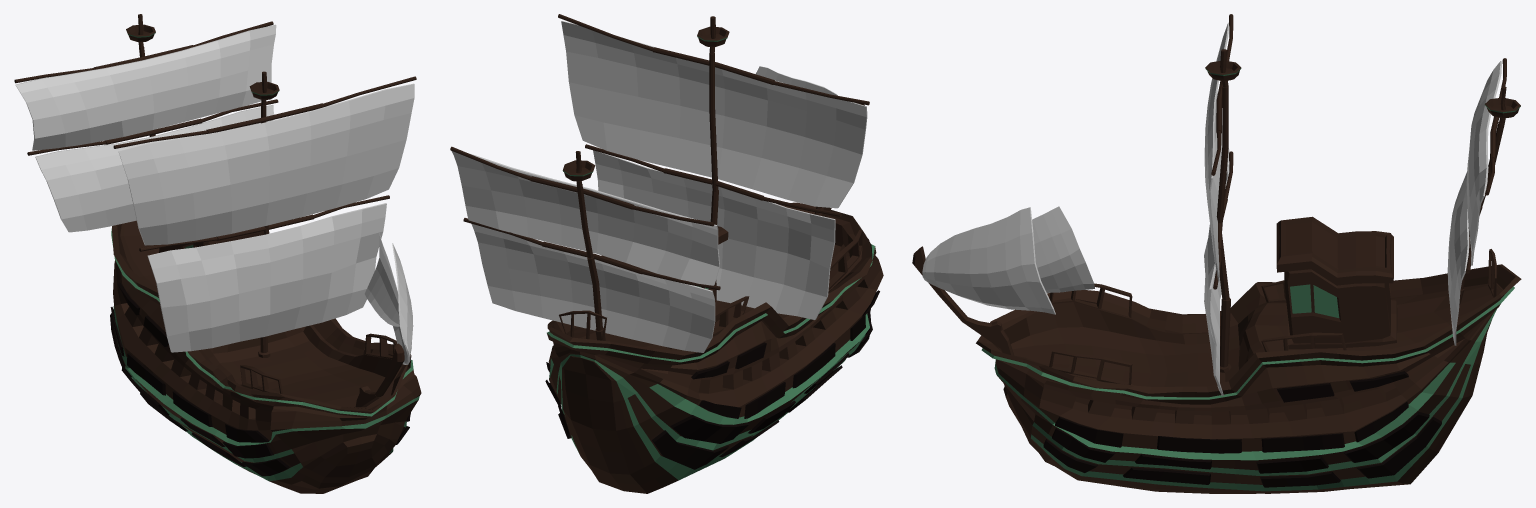
File: 11-25_ShipModel_v2.fbx
3 renders of one model, left to right at view 1: azimuth 30°, elevation 25°; view 2: azimuth 150°, elevation 25°; view 3: azimuth 270°, elevation 25°, orthographic. The views are drawn at different scales.
Visible parts, largest first — view 1: Sails, Hull, Mast Horiz Mid_1, R_front_L, Armor (15), Armor (18), Front Mast, Armor (20), Mast high, Armor (23), Armor (16), Mast Horiz Mid_2 (2) (+3 smaller); view 2: Sails, Hull, Armor (25), Armor (24), Mast mid, R_front_L, Mast Horiz Mid_1, Armor (20), Mast high, Mast high (2), Armor (18), Mast Horiz Rare (+5 smaller); view 3: Hull, Sails, Armor (11), Armor (10), Armor (6), Armor (4), Mid_Mast base, Armor (8), Mast mid, R_front_R, Armor (3), Armor (9) (+8 smaller).
Boxes of the visible parts, left/top/right/bottom form: Sails: left=15, top=24, right=414, bottom=364; Hull: left=111, top=220, right=421, bottom=493; Mast Horiz Mid_1: left=206, top=103, right=323, bottom=133; R_front_L: left=240, top=365, right=282, bottom=394; Armor (15): left=222, top=441, right=273, bottom=458; Armor (18): left=127, top=353, right=165, bottom=395; Front Mast: left=375, top=343, right=404, bottom=396; Armor (20): left=172, top=391, right=212, bottom=426; Mast high: left=249, top=71, right=279, bottom=105; Armor (23): left=225, top=424, right=269, bottom=442; Armor (16): left=242, top=458, right=289, bottom=476; Mast Horiz Mid_2 (2): left=104, top=118, right=202, bottom=144; Sails: left=451, top=21, right=867, bottom=352; Hull: left=547, top=202, right=883, bottom=493; Armor (25): left=652, top=430, right=728, bottom=469; Armor (24): left=670, top=415, right=749, bottom=443; Mast mid: left=709, top=53, right=718, bottom=191; R_front_L: left=828, top=230, right=862, bottom=289; Mast Horiz Mid_1: left=652, top=47, right=774, bottom=84; Armor (20): left=792, top=343, right=835, bottom=388; Mast high: left=697, top=16, right=729, bottom=53; Mast high (2): left=562, top=151, right=595, bottom=186; Armor (18): left=744, top=382, right=785, bottom=418; Mast Horiz Rare: left=530, top=176, right=634, bottom=209; Hull: left=976, top=216, right=1521, bottom=493; Sails: left=922, top=22, right=1501, bottom=395; Armor (11): left=1356, top=417, right=1441, bottom=478; Armor (10): left=1343, top=411, right=1429, bottom=462; Armor (6): left=1157, top=436, right=1241, bottom=453; Armor (4): left=1261, top=433, right=1344, bottom=452; Mid_Mast base: left=1219, top=234, right=1231, bottom=372; Armor (8): left=1123, top=467, right=1210, bottom=484; Mast mid: left=1216, top=86, right=1228, bottom=230; R_front_R: left=1049, top=350, right=1132, bottom=384; Armor (3): left=1256, top=456, right=1328, bottom=473; Armor (9): left=1055, top=416, right=1123, bottom=447.
Bounding box in the file's own units: 1601 × 2039 × 2547.
